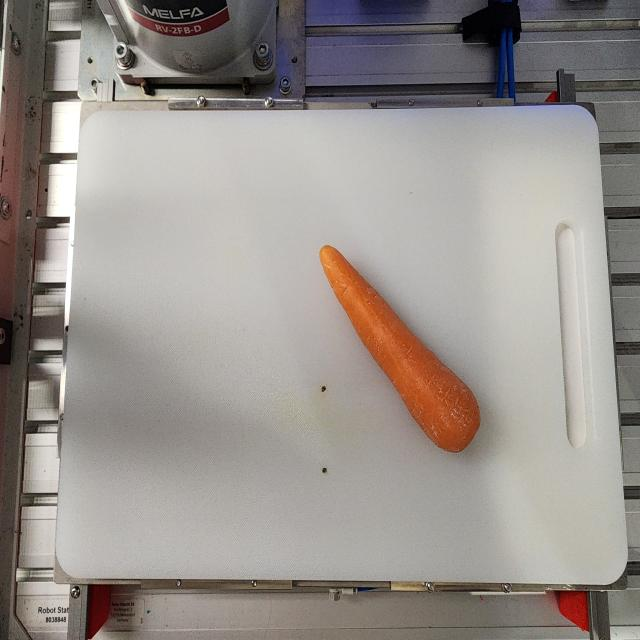carrot: (319, 244, 481, 453)
